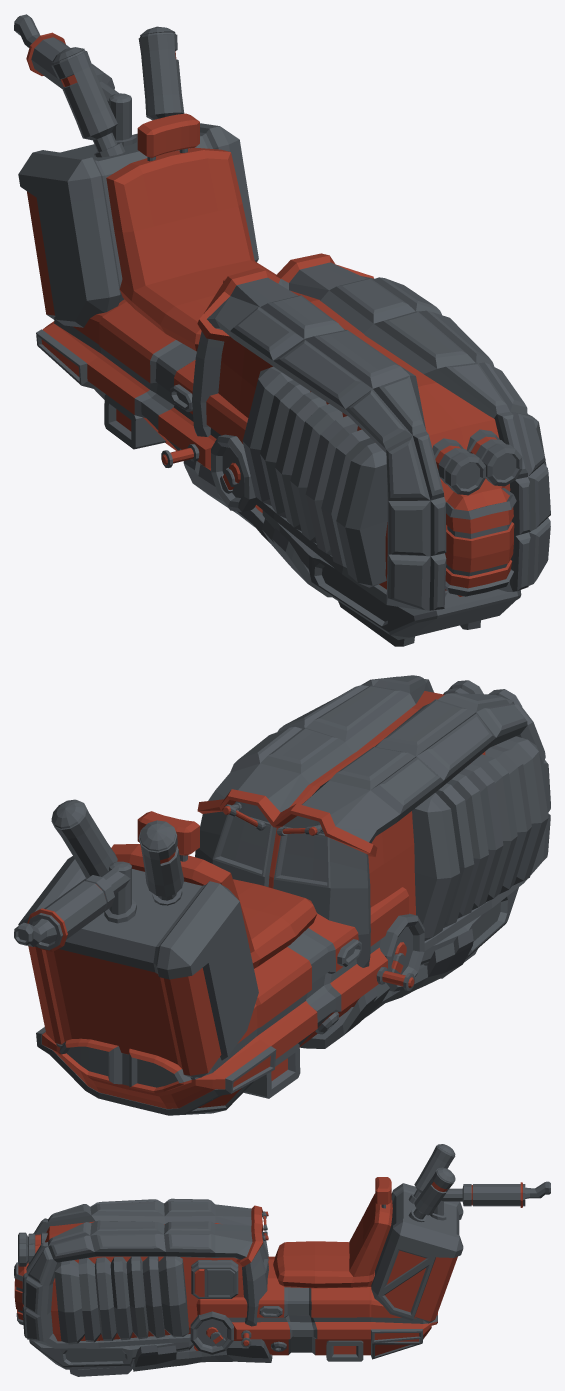
Rendered from Personal_Vehicle_02_Red.fbx.
3 views of the same model, one above another, from view 1: azimuth 30°, elevation 25°; view 2: azimuth 150°, elevation 25°; view 3: azimuth 270°, elevation 25° (orthographic). The views are drawn at different scales.
Parts seen in each view (by area): view 1: Personal_Vehicle_02_Red; view 2: Personal_Vehicle_02_Red; view 3: Personal_Vehicle_02_Red.
Boxes of the visible parts, box(x1,y1,x2,y2) form: Personal_Vehicle_02_Red: box(14, 14, 550, 646); Personal_Vehicle_02_Red: box(14, 675, 550, 1115); Personal_Vehicle_02_Red: box(14, 1144, 550, 1376).
Size of the model in its own units: 131 by 184 by 429.
2 materials, 2 textured.
